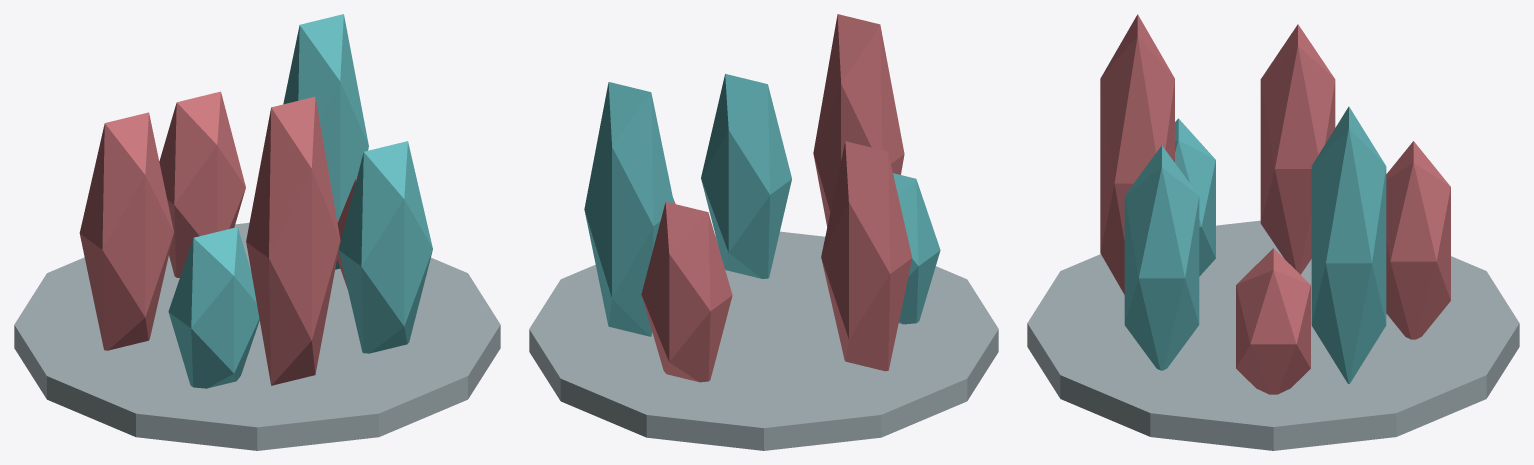
Rendered from corail_des_abysses.glb.
The picture shows the model from 3 angles, left to right: view 1: azimuth 30°, elevation 25°; view 2: azimuth 150°, elevation 25°; view 3: azimuth 270°, elevation 25°; orthographic projection. The views are drawn at different scales.
Visible parts, largest first — view 1: static_stone, static_red, static_teal; view 2: static_stone, static_red, static_teal; view 3: static_stone, static_red, static_teal.
Boxes of the visible parts, x1,y1,x2,y2 form: static_stone: (14,222,500,450); static_red: (79,91,356,385); static_teal: (168,14,432,388); static_stone: (529,231,998,450); static_red: (641,14,912,382); static_teal: (584,74,940,336); static_stone: (1027,220,1519,450); static_red: (1100,14,1450,394); static_teal: (1124,106,1386,383).
Size of the model in its own units: 2.8 by 1.92 by 2.8.
